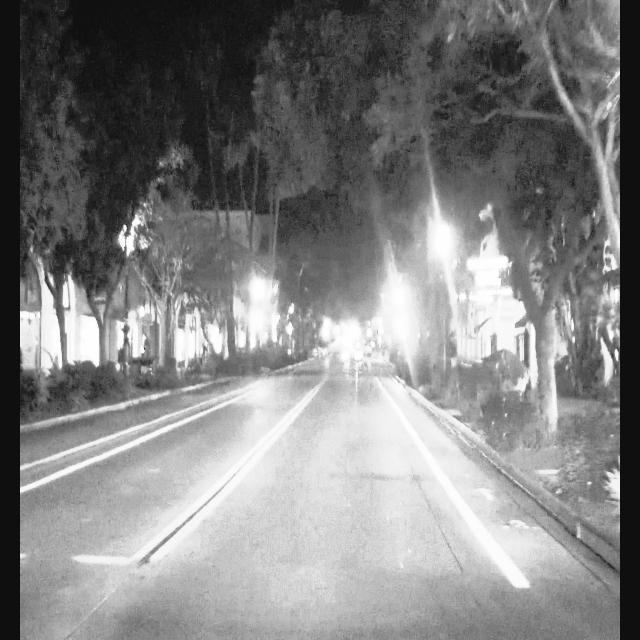Tree: (559, 0, 621, 518), (491, 129, 573, 453)
